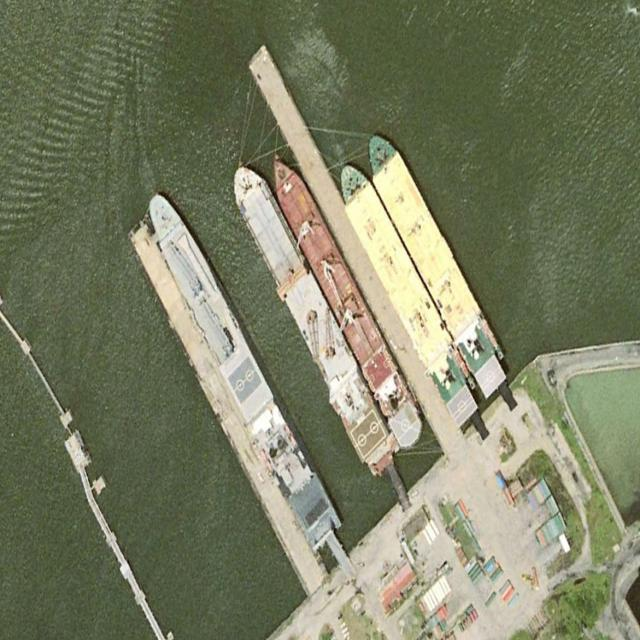Cargo: (138, 178, 342, 559), (222, 151, 401, 484), (260, 143, 430, 456), (355, 120, 514, 401), (327, 154, 484, 430)
